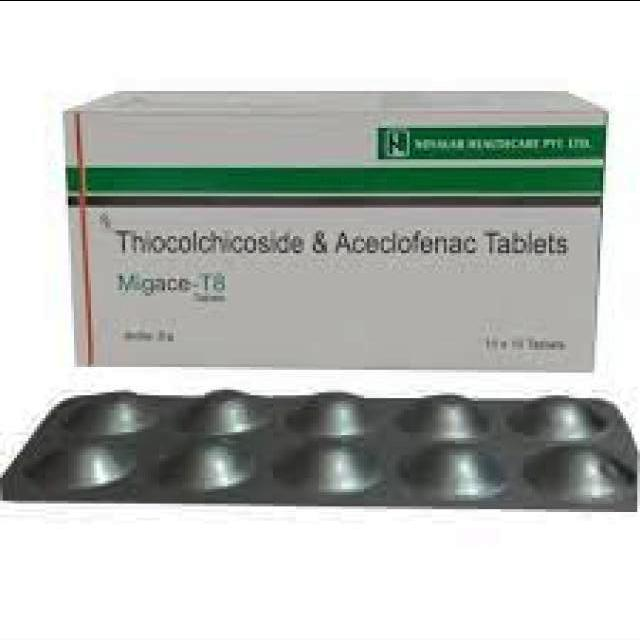authentic: (50, 79, 622, 383), (0, 390, 640, 543)
